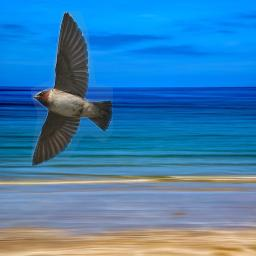Swallow: (31, 11, 113, 167)
